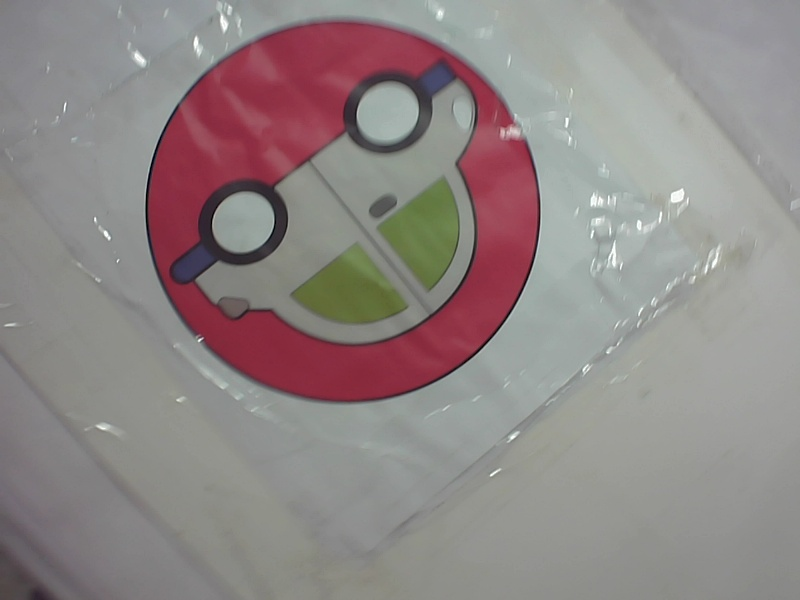areaC: (148, 18, 555, 404)
